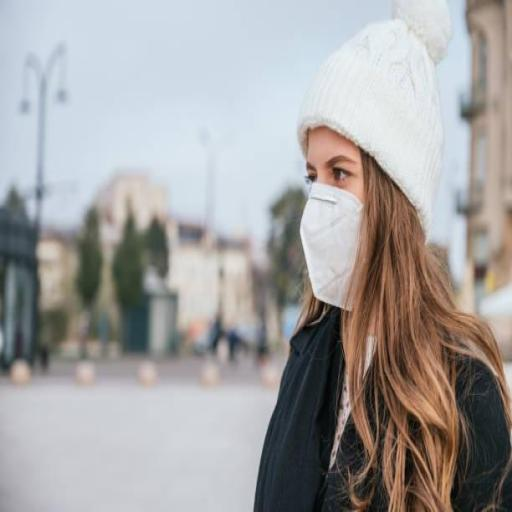mask: (286, 113, 376, 315)
